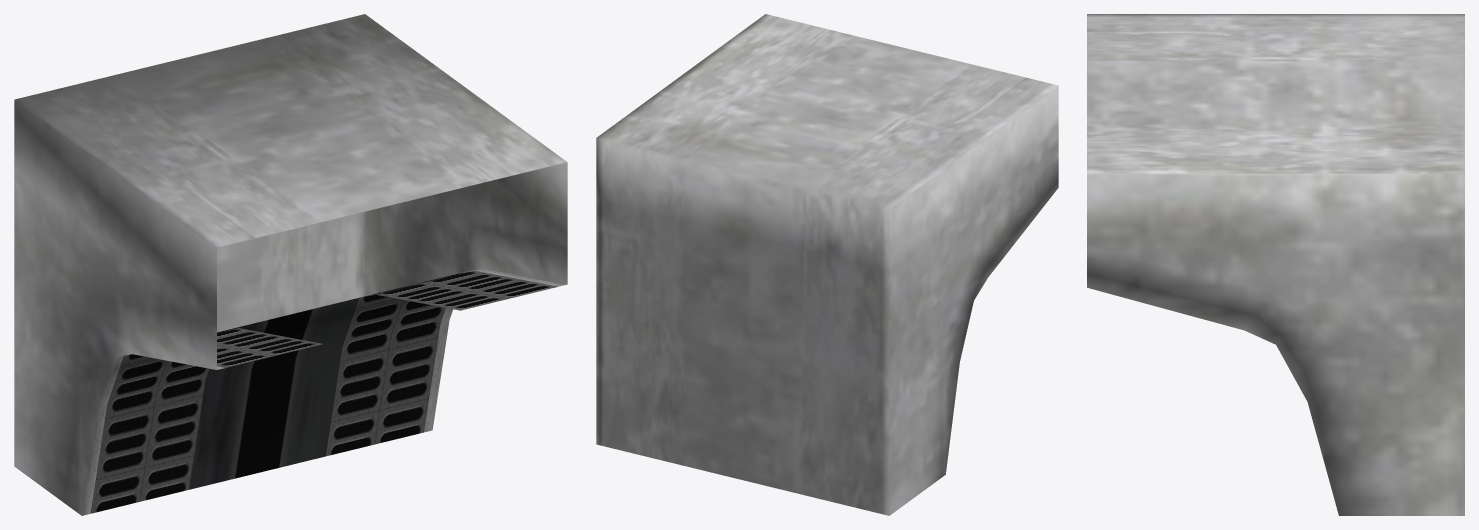
The model's file is tiles_door_arch_1.glb.
3 views of the same model, side by side, from view 1: azimuth 30°, elevation 25°; view 2: azimuth 150°, elevation 25°; view 3: azimuth 270°, elevation 25° (orthographic). The views are drawn at different scales.
Parts seen in each view (by area): view 1: Cube.003; view 2: Cube.003; view 3: Cube.003.
Part boxes in pixels (x1=…): Cube.003: x1=14, y1=14, x2=567, y2=515; Cube.003: x1=596, y1=14, x2=1058, y2=515; Cube.003: x1=1087, y1=14, x2=1464, y2=515.
Size of the model in its own units: 2 by 2 by 2.
3 materials, 3 textured.
